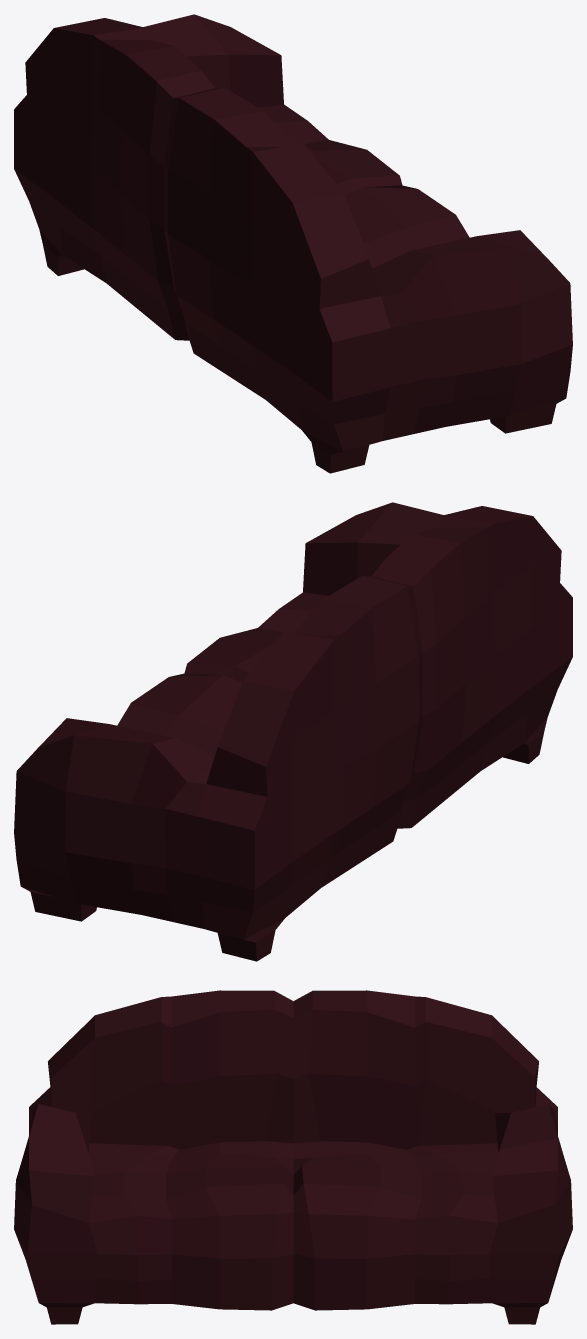
The model's file is M_Shopa01.fbx.
3 renders of one model, top to bottom at view 1: azimuth 30°, elevation 25°; view 2: azimuth 150°, elevation 25°; view 3: azimuth 270°, elevation 25°, orthographic. The views are drawn at different scales.
Visible parts, largest first — view 1: Cube.002; view 2: Cube.002; view 3: Cube.002.
Part boxes in pixels (<box>): Cube.002: <box>14,14,572,473</box>; Cube.002: <box>14,502,572,961</box>; Cube.002: <box>14,990,572,1324</box>.
Size of the model in its own units: 96.08 by 99.48 by 211.
